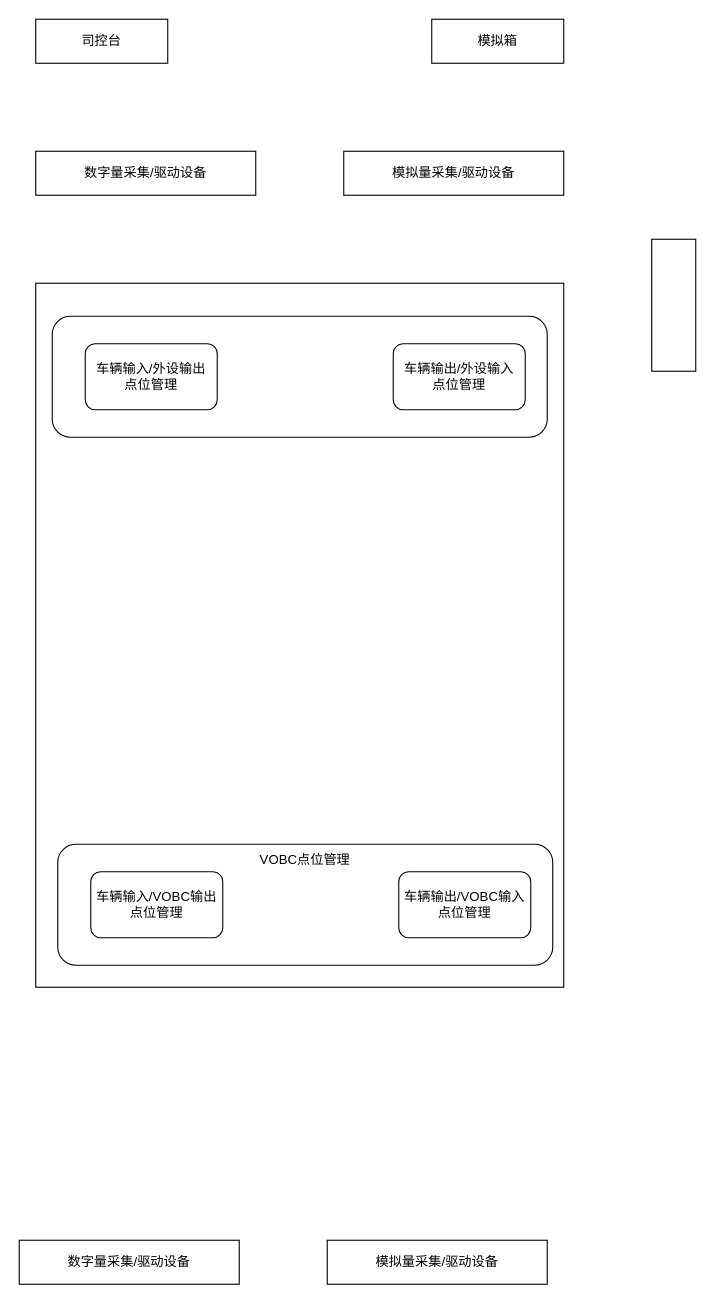
This 715x1304 diagram has some shape labels left out. Here are the shapes that lost their labels. From the top down, the box of each, then its label:
(651, 238, 696, 371): 转速台
(51, 315, 547, 437): 外设点位管理
(35, 282, 564, 987): TrainSimu App
